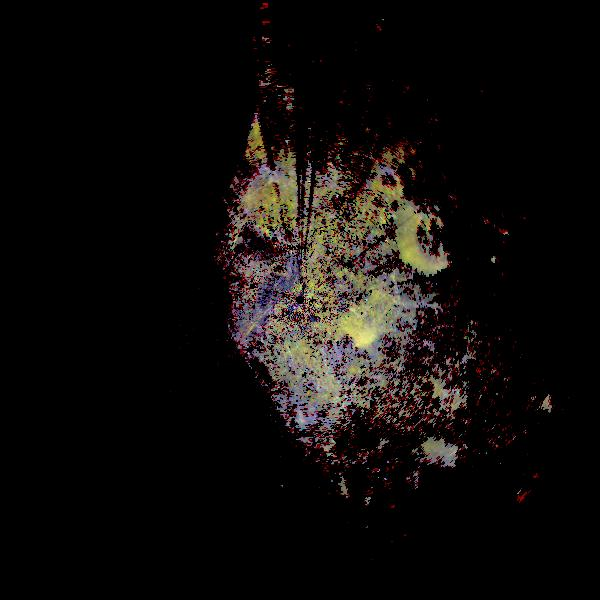roost: (392, 194, 488, 290), (362, 247, 449, 334), (405, 432, 474, 501), (337, 310, 385, 358)
